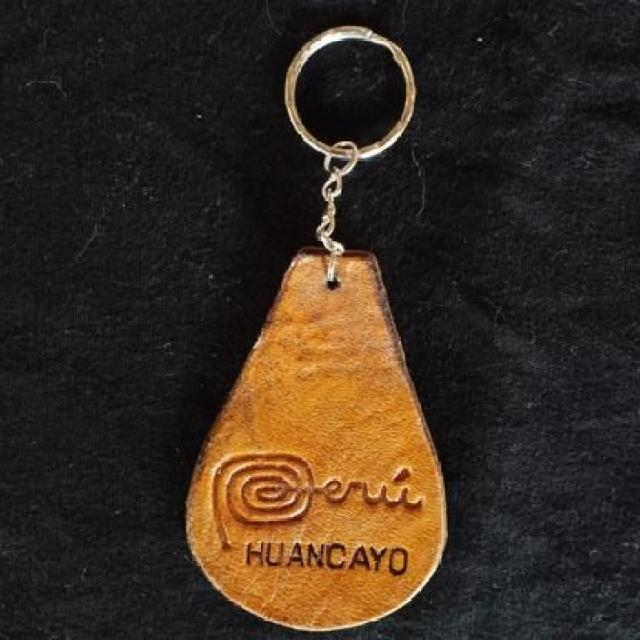Llavero: (183, 245, 449, 632)
